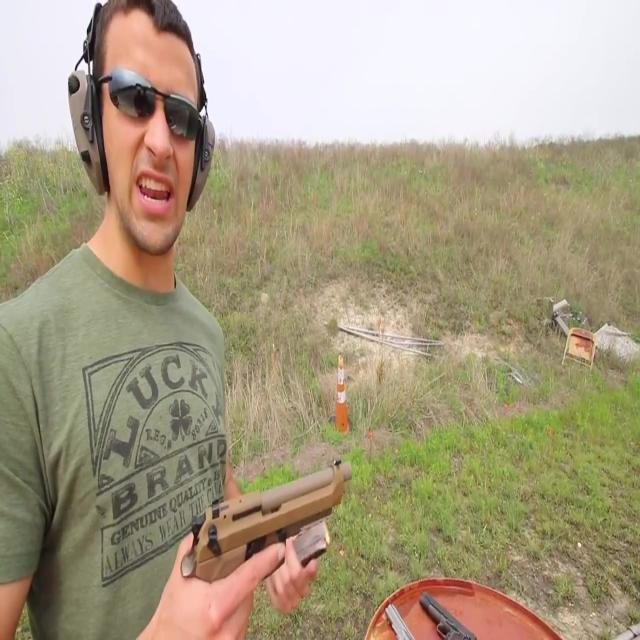Weapon: (131, 425, 519, 640)
